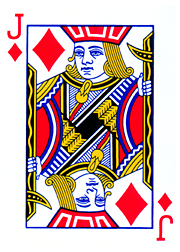jack of diamonds: (3, 8, 176, 245)
